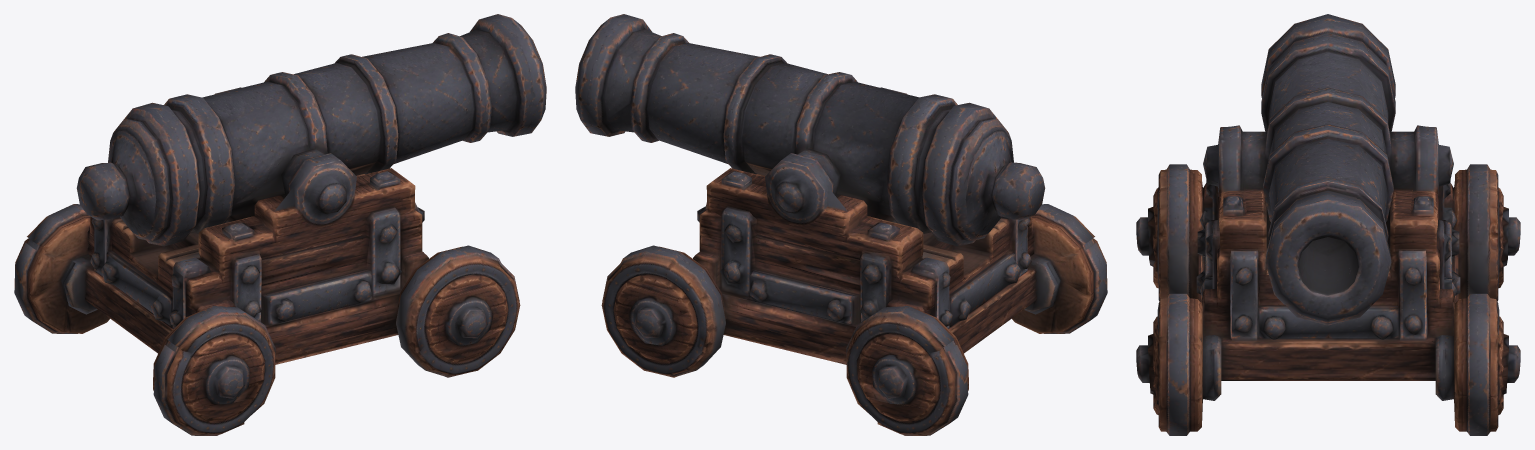
The model's file is SM_Env_Cannon.fbx.
3 views of the same model, side by side, from view 1: azimuth 30°, elevation 25°; view 2: azimuth 150°, elevation 25°; view 3: azimuth 270°, elevation 25° (orthographic). The views are drawn at different scales.
Visible parts, largest first — view 1: SM_Env_Cannon; view 2: SM_Env_Cannon; view 3: SM_Env_Cannon.
Boxes of the visible parts, x1,y1,x2,y2 form: SM_Env_Cannon: [14, 14, 546, 435]; SM_Env_Cannon: [575, 14, 1107, 435]; SM_Env_Cannon: [1136, 14, 1520, 435].
Size of the model in its own units: 45 by 31.62 by 26.84.
Materials: 1 (1 with a texture image).
